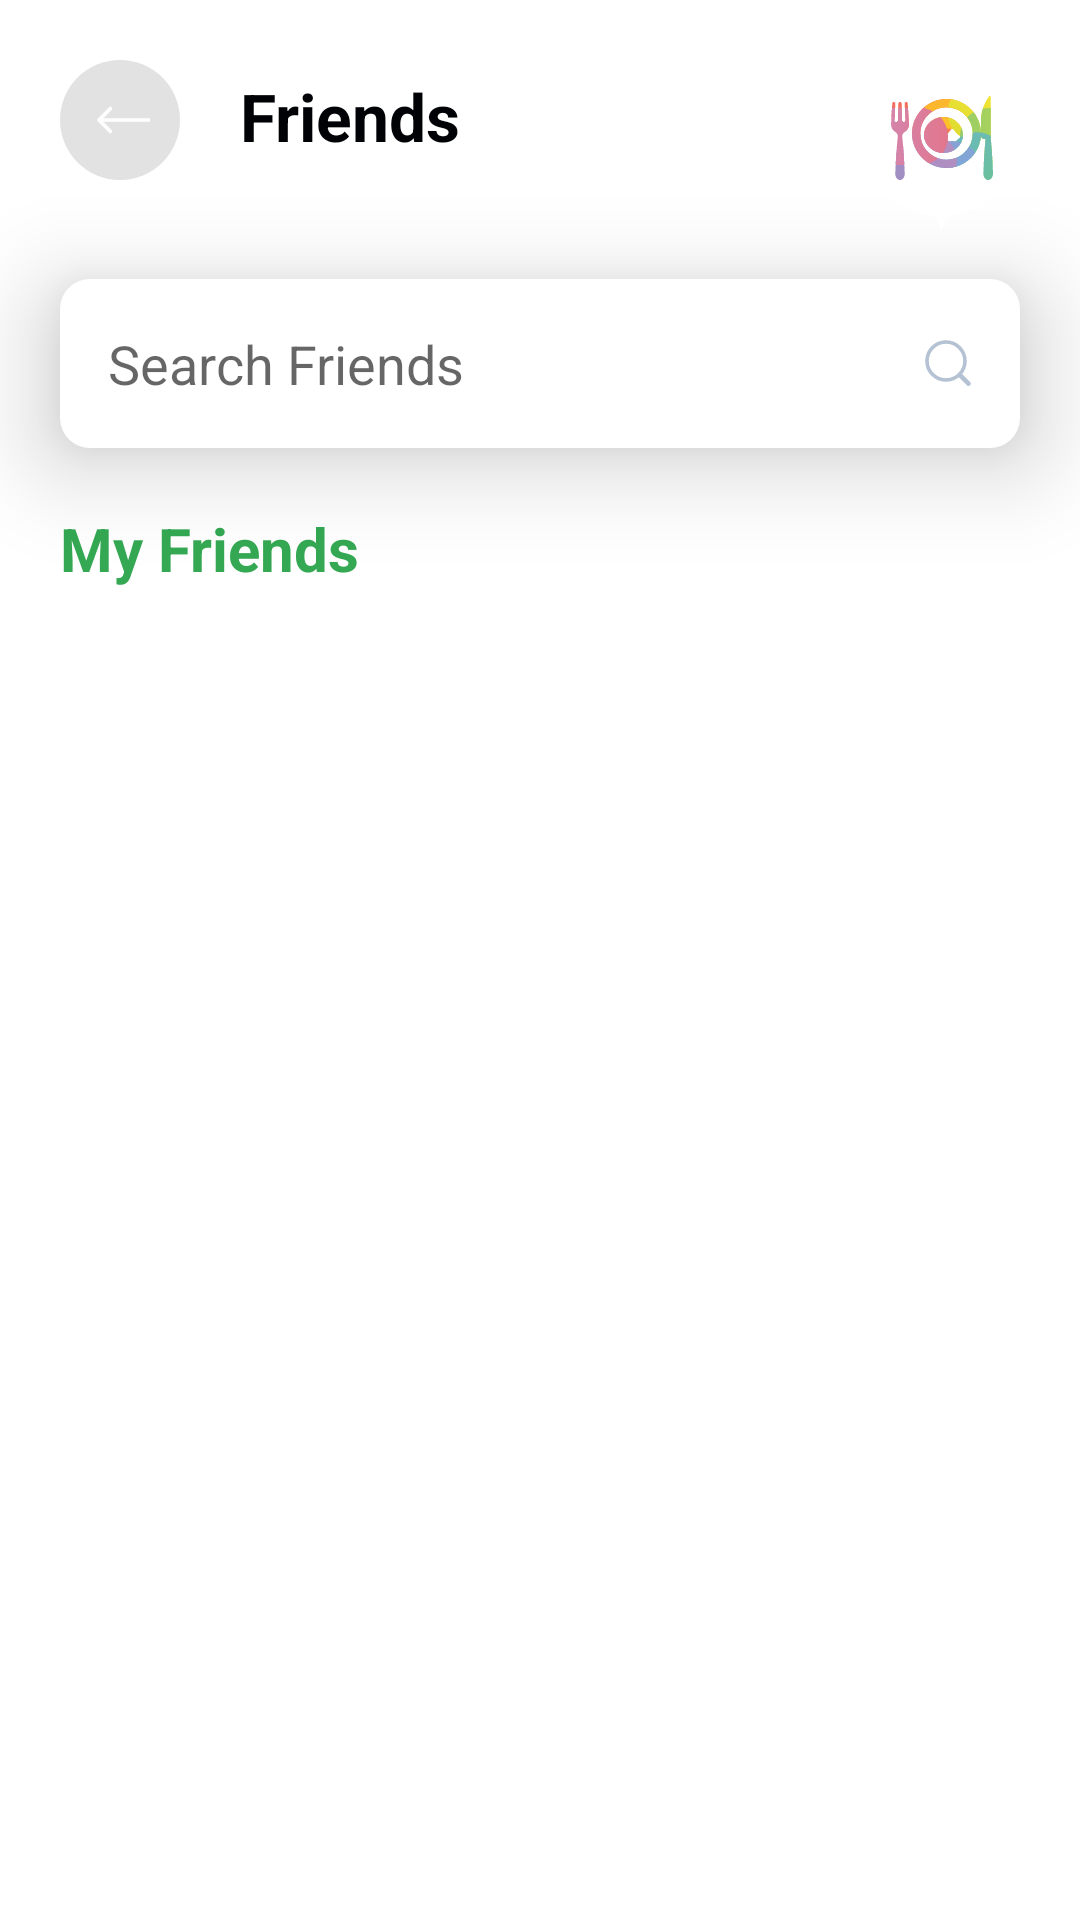

Locate icon controls on the screen. Image size 1080px x 1920px, boxes as (x1, y1, x2, y2).
back: (60, 60, 180, 180)
